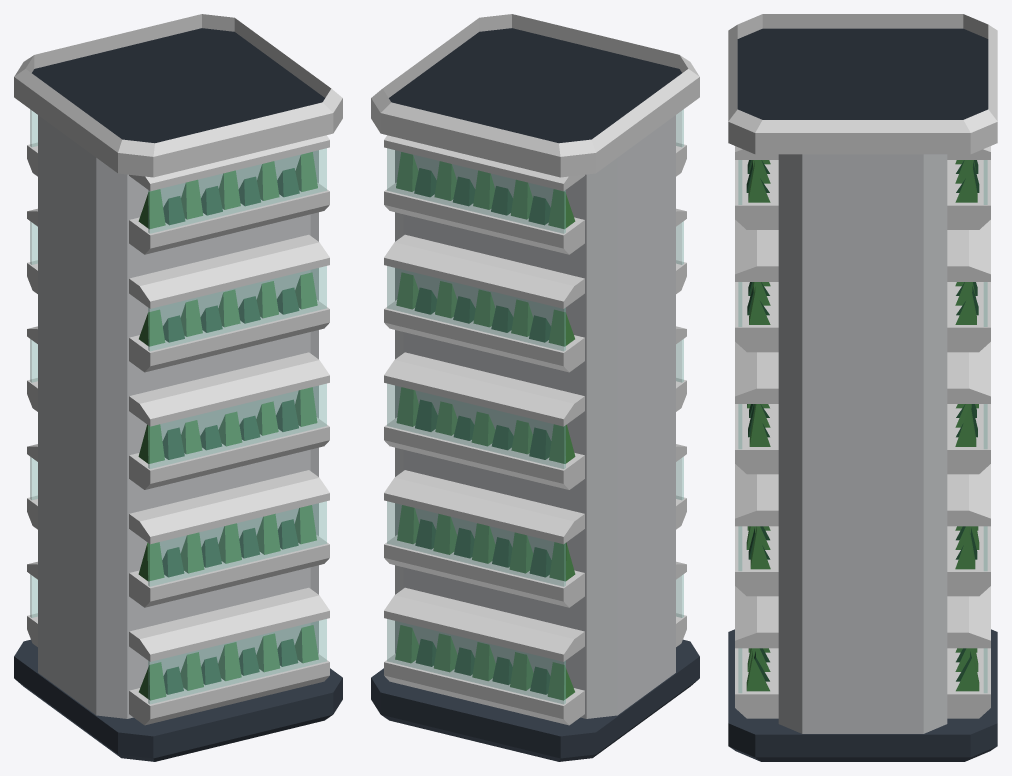
The model's file is vertical-farm-tower-77d887.glb.
3 renders of one model, left to right at view 1: azimuth 30°, elevation 25°; view 2: azimuth 150°, elevation 25°; view 3: azimuth 270°, elevation 25°, orthographic. The views are drawn at different scales.
Visible parts, largest first — view 1: vertical-farm-tower; view 2: vertical-farm-tower; view 3: vertical-farm-tower.
Part boxes in pixels (x1,y1,x2,y2): vertical-farm-tower: (14, 14, 342, 761); vertical-farm-tower: (371, 14, 699, 761); vertical-farm-tower: (728, 14, 997, 761).
Bounding box in the file's own units: 8 × 21 × 8.
